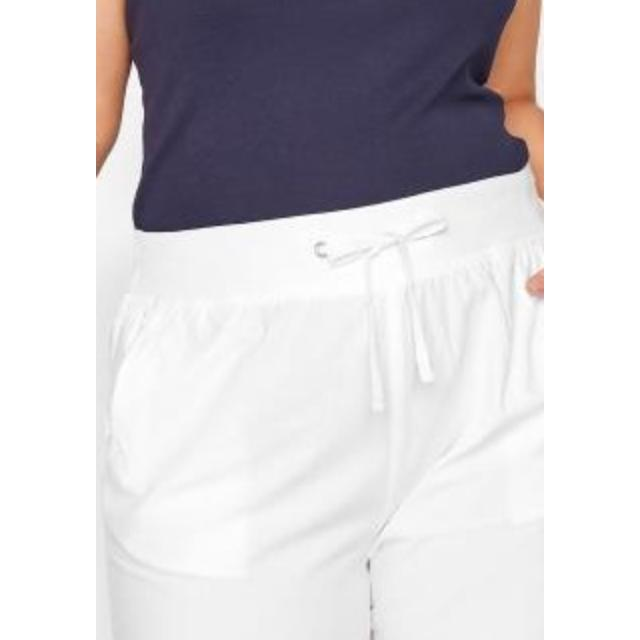cotton: (144, 0, 544, 640)
